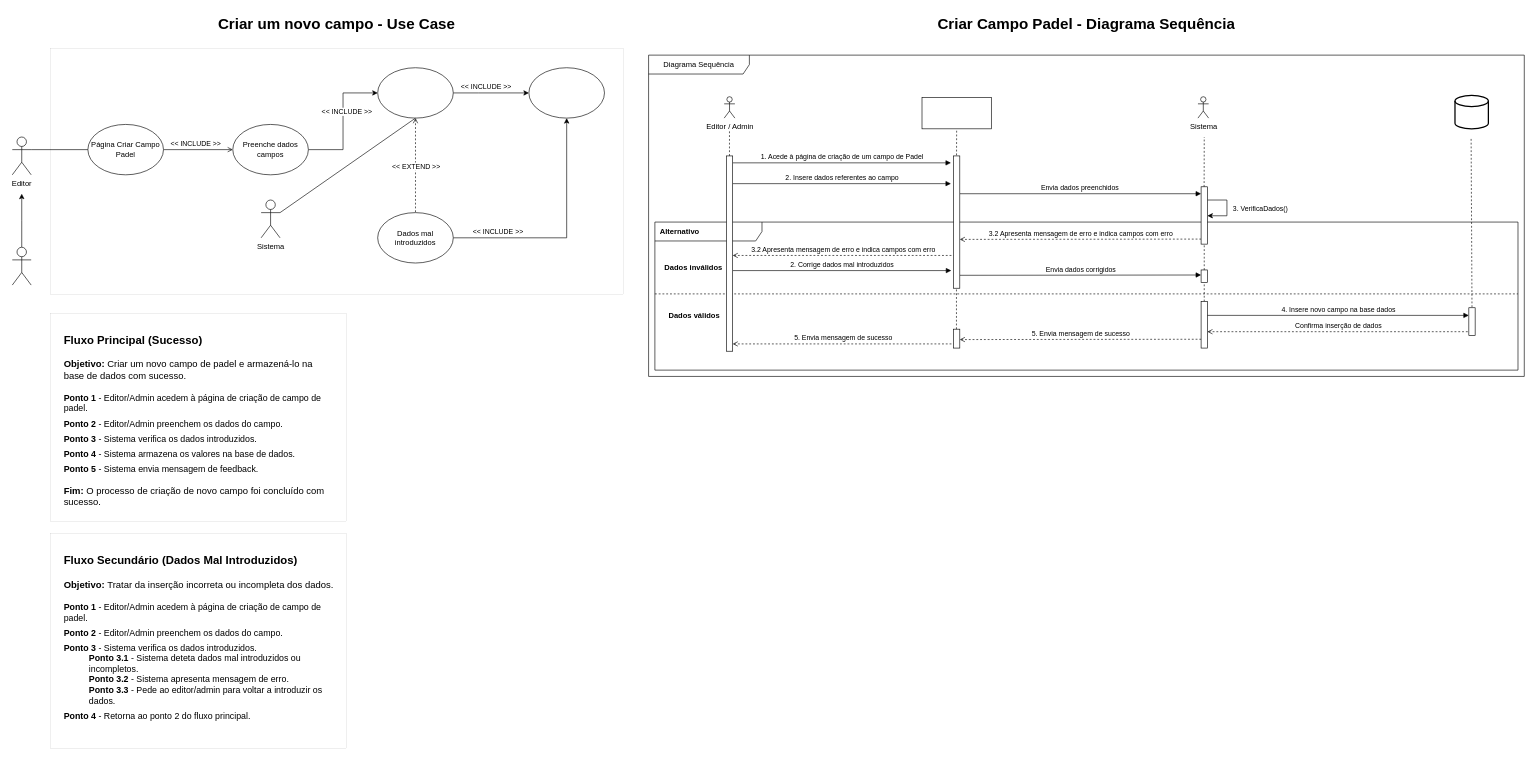
The diagram is 1535 pixels wide and 759 high, and some of its shapes have lost their labels. Each missing label, with the box of its shape:
Admin: (12, 247, 31, 285)
BD: (1454, 94, 1489, 129)
Envia Feedback: (528, 67, 604, 118)
Página Criação Campo Padel: (921, 97, 991, 129)
Verifica dados Introduzidos: (377, 67, 453, 118)
